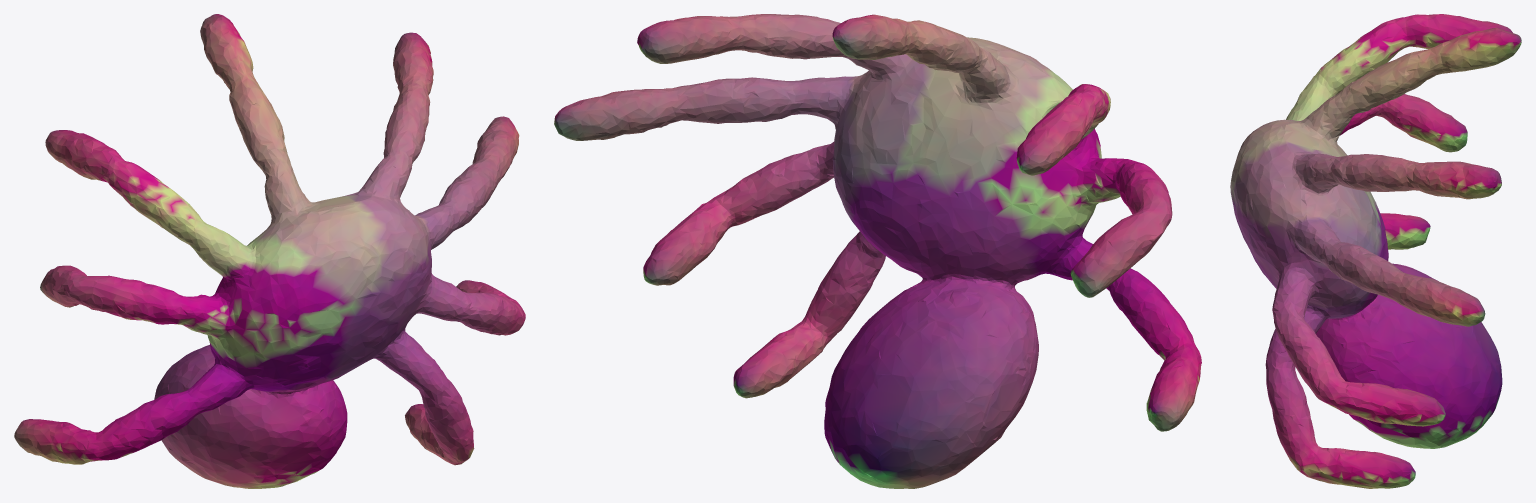
The model's file is spider-9.off.obj.
3 views of the same model, side by side, from view 1: azimuth 30°, elevation 25°; view 2: azimuth 150°, elevation 25°; view 3: azimuth 270°, elevation 25° (orthographic). The views are drawn at different scales.
Size of the model in its own units: 1.59 by 1.26 by 0.8079.
